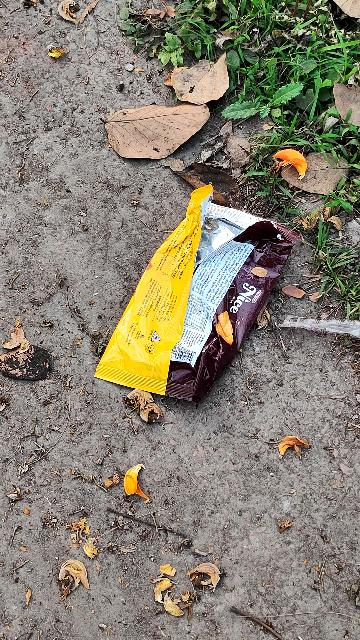packet: (90, 184, 302, 413)
